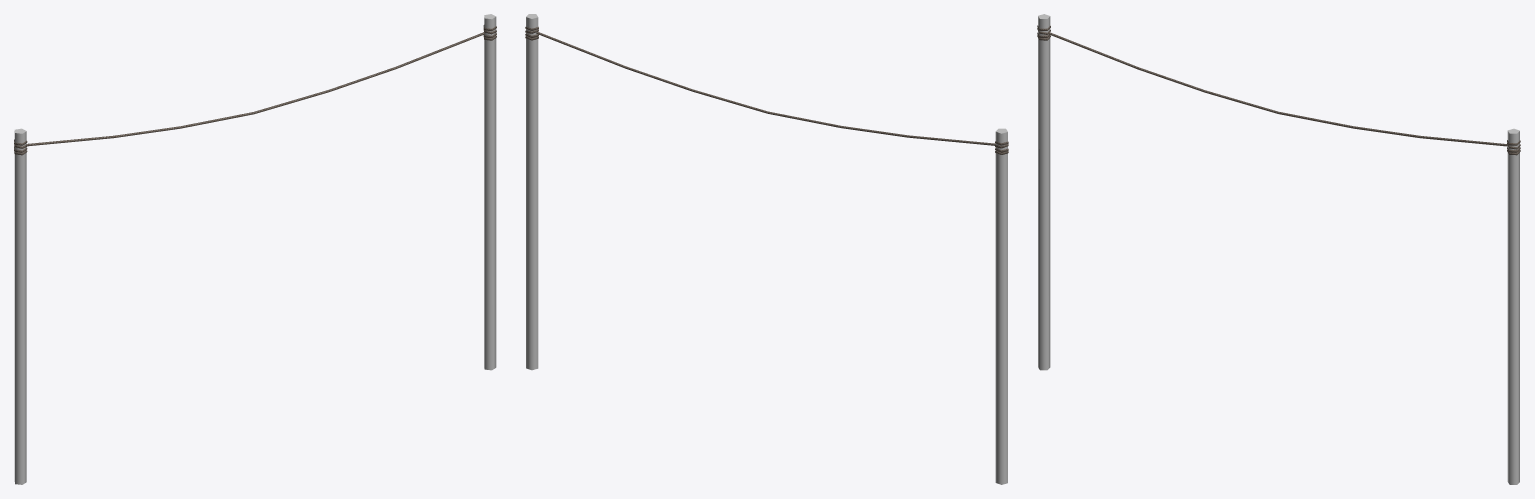
File: rope lod1.fbx
3 views of the same model, side by side, from view 1: azimuth 30°, elevation 25°; view 2: azimuth 150°, elevation 25°; view 3: azimuth 330°, elevation 25° (orthographic).
Parts seen in each view (by area): view 1: polySurface185; view 2: polySurface185; view 3: polySurface185.
Part boxes in pixels (x1,y1,x2,y2): polySurface185: (14,14,496,484); polySurface185: (525,14,1008,484); polySurface185: (1037,14,1520,484).
Bounding box in the file's own units: 10.25 × 7.15 × 0.2513.
